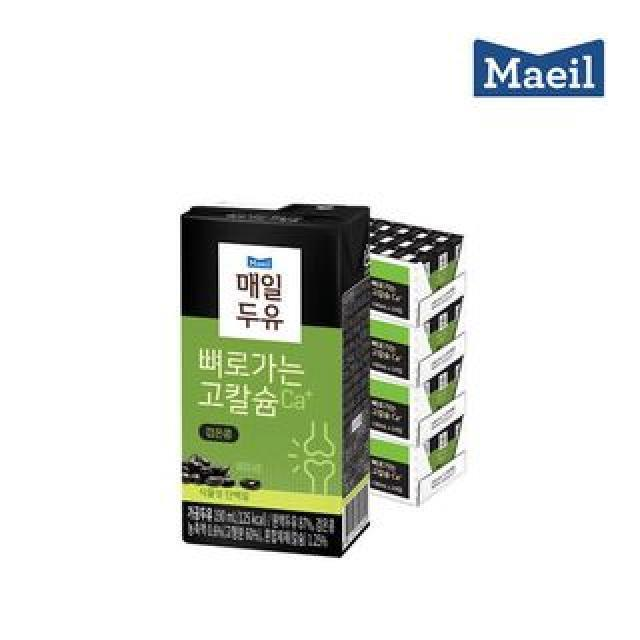Tetra: (171, 191, 375, 564)
